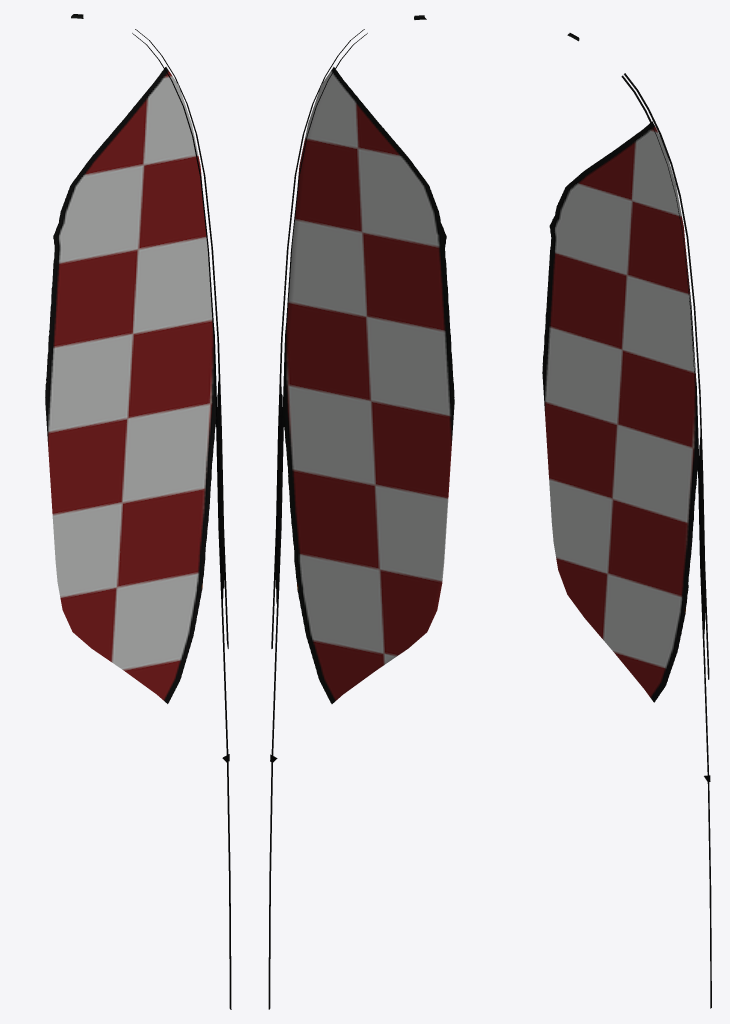
File: hoverspeedflag.glb
The picture shows the model from 3 angles, left to right: view 1: azimuth 30°, elevation 25°; view 2: azimuth 150°, elevation 25°; view 3: azimuth 330°, elevation 25°; orthographic projection. The views are drawn at different scales.
Visible parts, largest first — view 1: HoverspeedFlag; view 2: HoverspeedFlag; view 3: HoverspeedFlag.
Part boxes in pixels (x1,y1,x2,y2): HoverspeedFlag: (45,14,231,1009); HoverspeedFlag: (268,15,454,1009); HoverspeedFlag: (542,33,711,1008).
Size of the model in its own units: 0.8816 by 3.99 by 0.019.
1 material, 1 textured.
